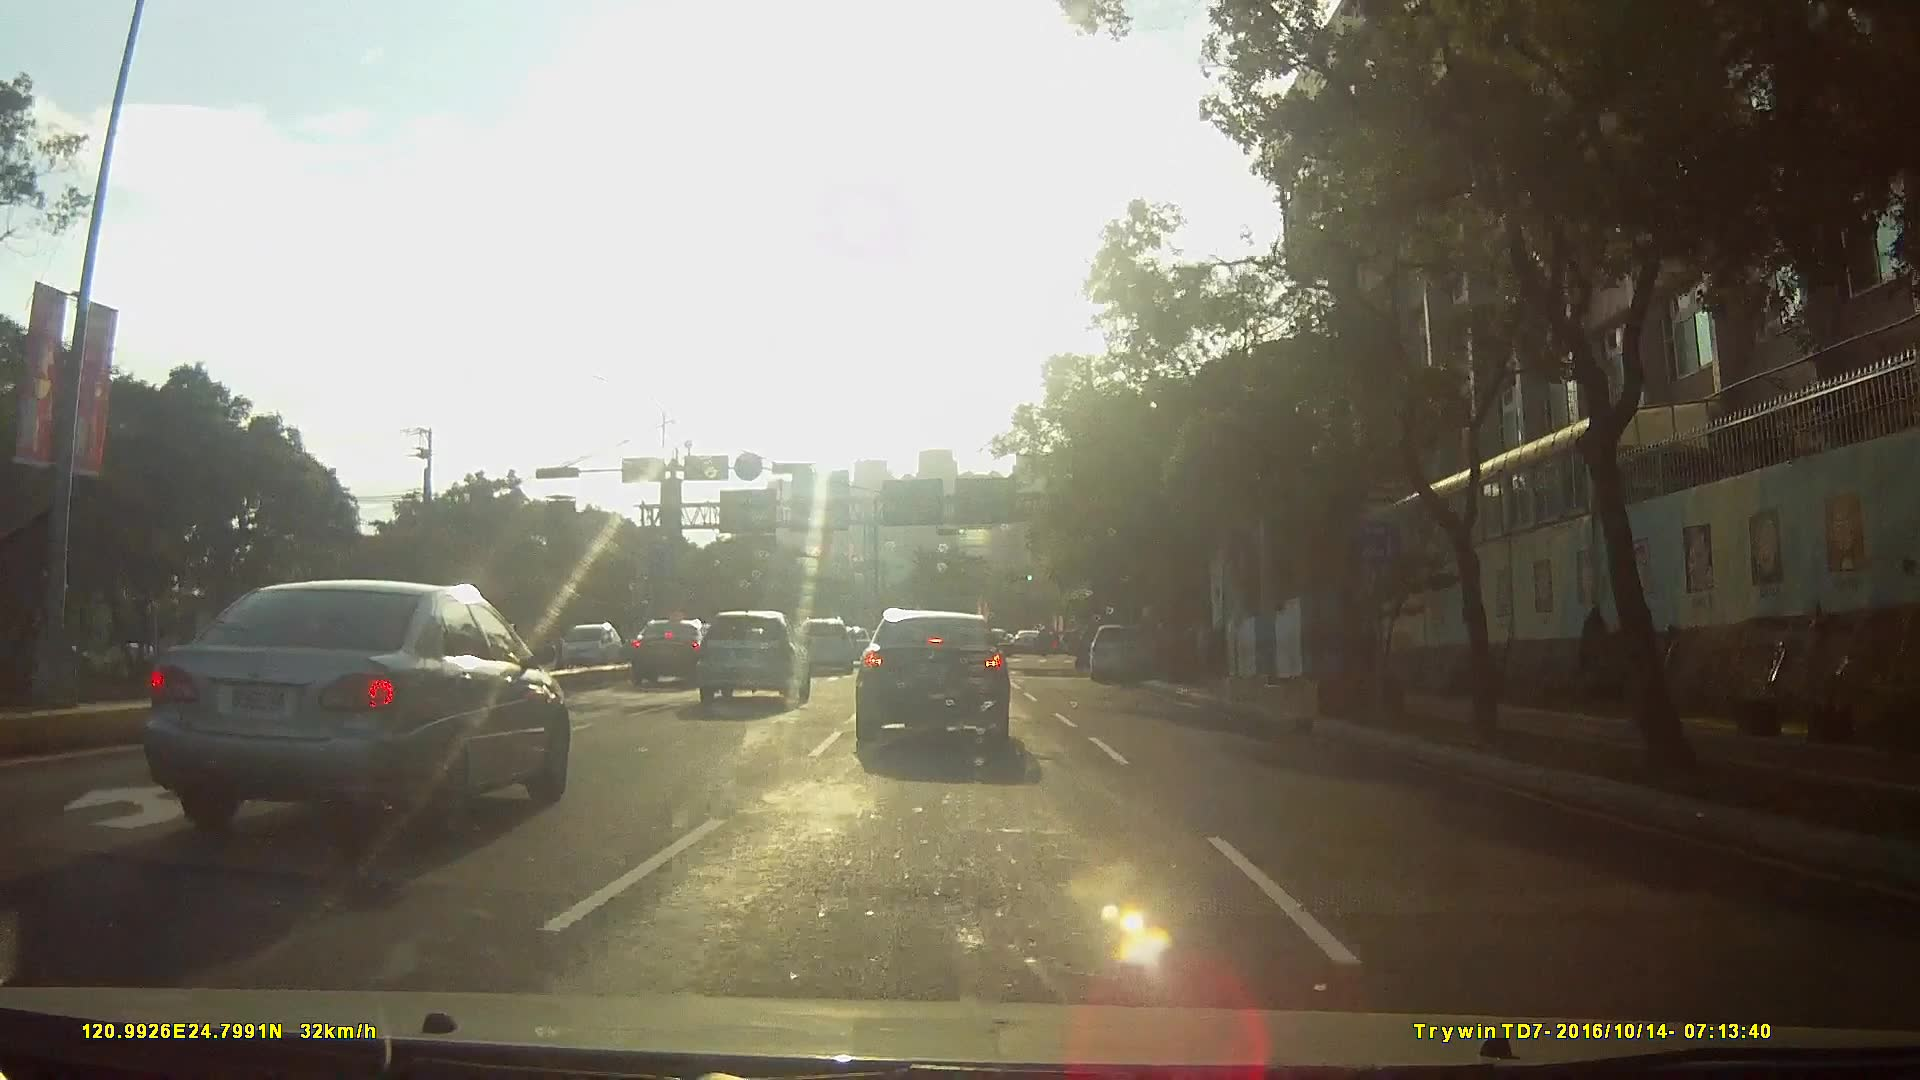vehicle: (123, 566, 578, 855), (851, 607, 1027, 764), (688, 609, 811, 705), (613, 616, 704, 686), (549, 621, 630, 675), (1091, 622, 1158, 682), (789, 612, 852, 674), (1010, 624, 1052, 651)
